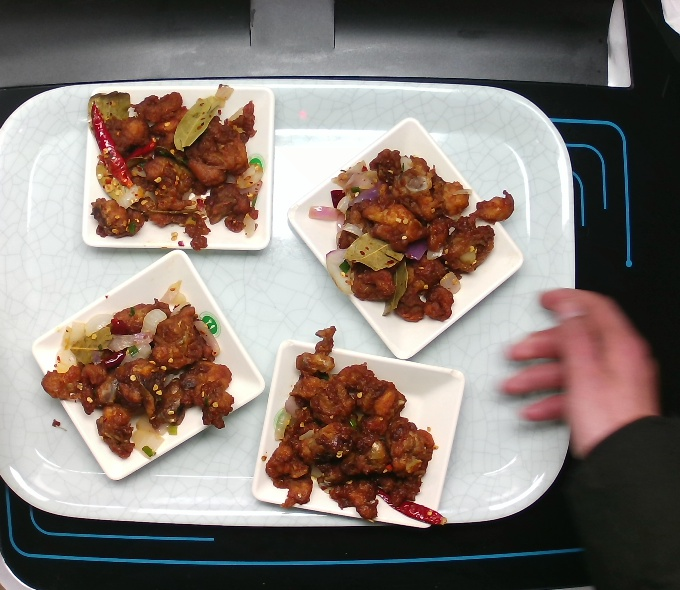wcq-LaZiJiKuai: (41, 294, 234, 457), (331, 149, 504, 326), (266, 341, 436, 517), (87, 89, 256, 243)
